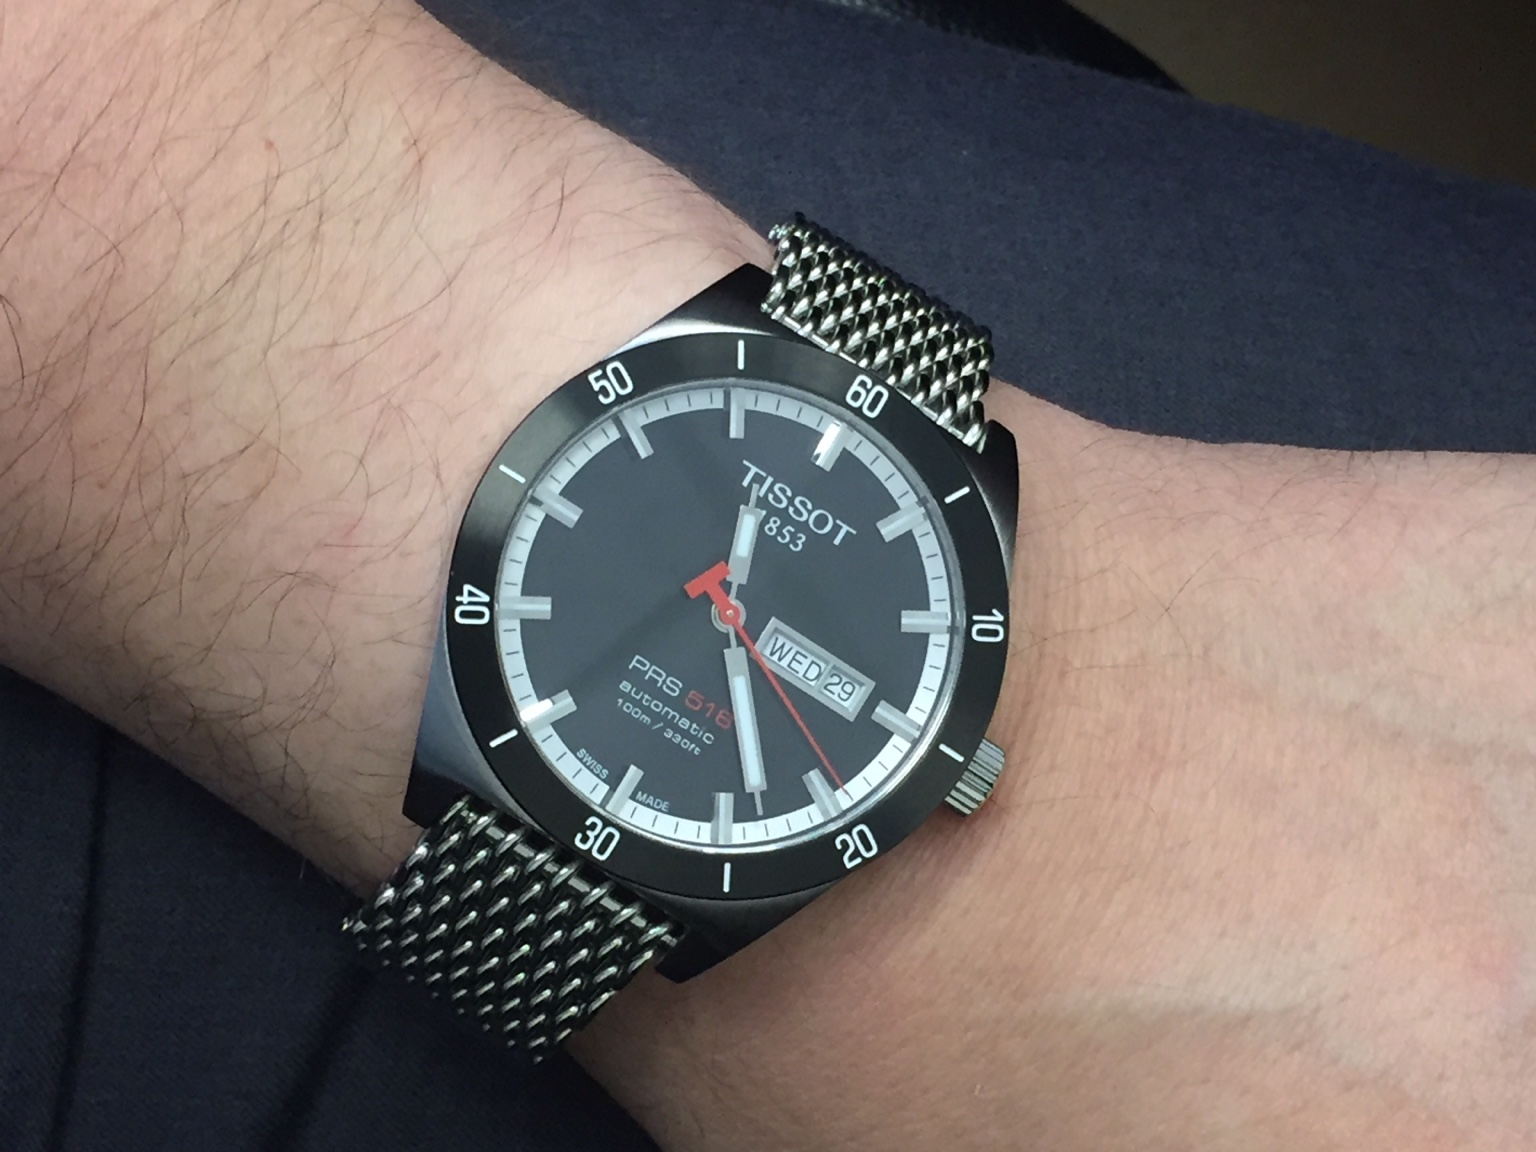clock: (441, 329, 1017, 902)
